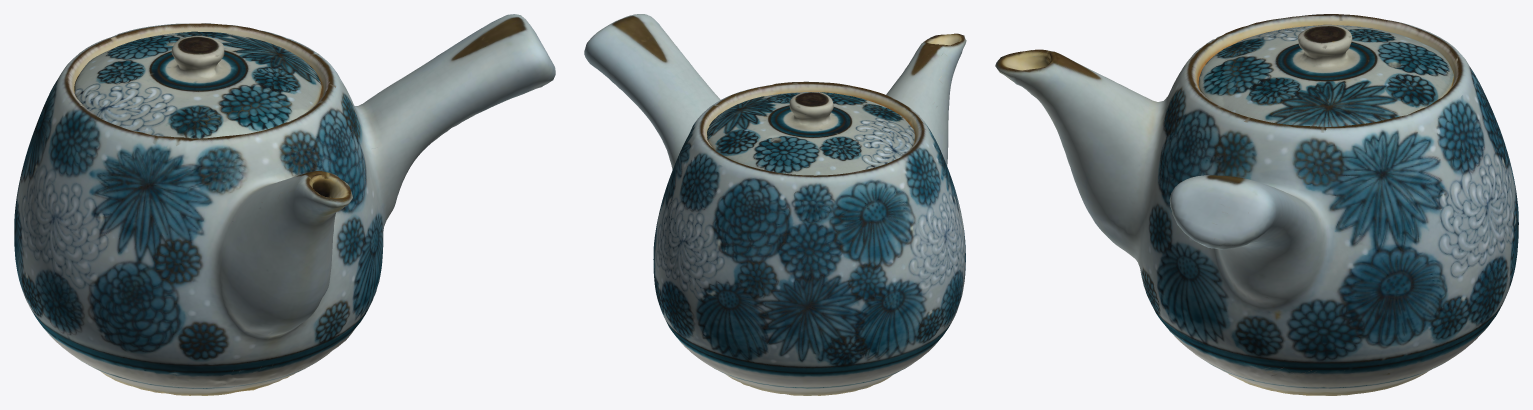
3 views of the same model, side by side, from view 1: azimuth 30°, elevation 25°; view 2: azimuth 150°, elevation 25°; view 3: azimuth 270°, elevation 25° (orthographic). The views are drawn at different scales.
Visible parts, largest first — view 1: Teapot_lowpoly, Teapot_lid_lowpoly; view 2: Teapot_lowpoly, Teapot_lid_lowpoly; view 3: Teapot_lowpoly, Teapot_lid_lowpoly.
Part boxes in pixels (x1,y1,x2,y2): Teapot_lowpoly: [14, 14, 555, 395]; Teapot_lid_lowpoly: [74, 31, 322, 138]; Teapot_lowpoly: [584, 14, 966, 395]; Teapot_lid_lowpoly: [707, 92, 915, 175]; Teapot_lowpoly: [995, 14, 1518, 395]; Teapot_lid_lowpoly: [1198, 24, 1453, 126].
Size of the model in its own units: 2.29 by 1.45 by 2.19.
2 materials, 2 textured.
